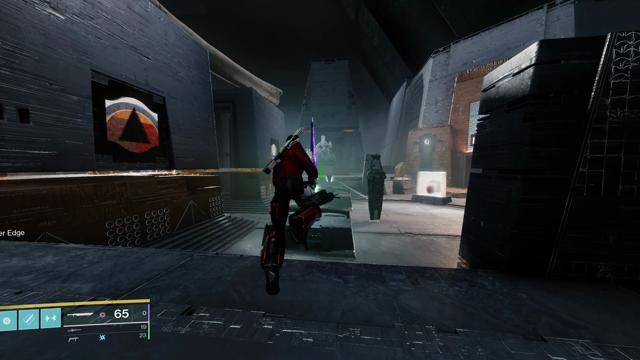pyramid: (105, 97, 159, 153)
traveler: (271, 143, 277, 160)
